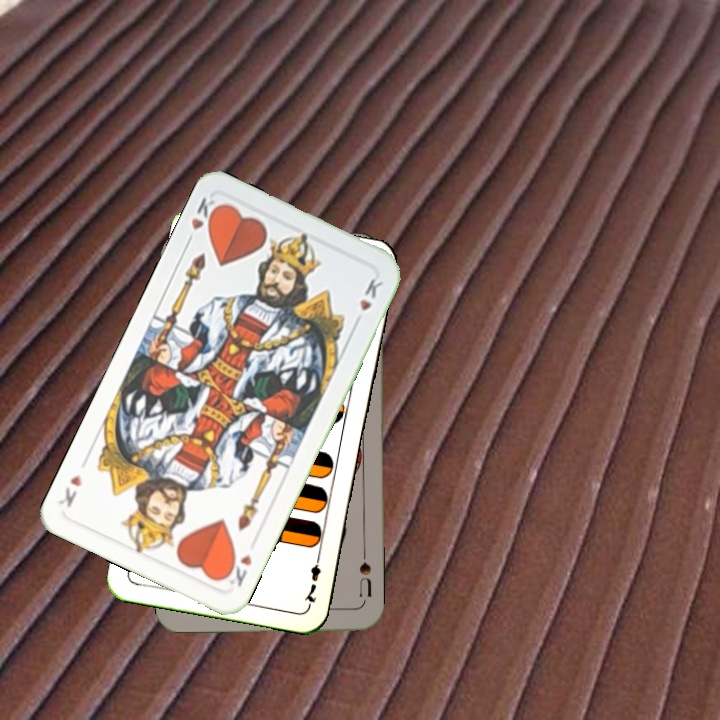E7: (300, 549, 324, 608)
HK: (182, 192, 223, 248), (220, 550, 255, 590)
SU: (355, 558, 375, 599)
